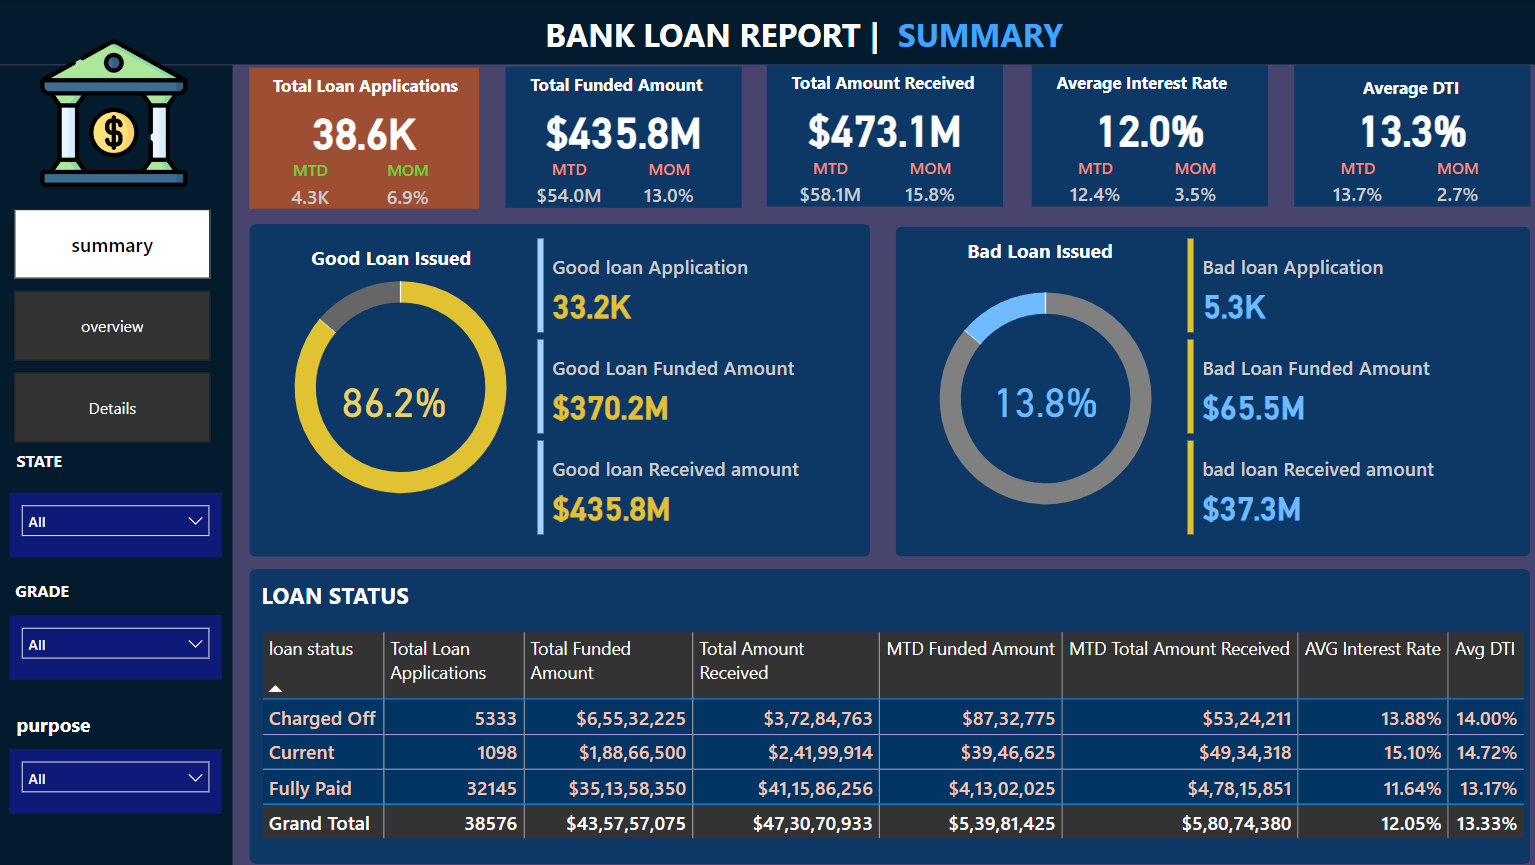

The dashboard page shown, as its layout file describes it:
{"tool":"powerbi","page":{"name":"summary","canvas":[1280,720],"ordinal":0},"visuals":[{"type":"shape","box":[639.5,54.7,196.4,117.4],"z":0,"group":"g3"},{"type":"shape","box":[859.4,54.7,196.4,117.4],"z":0,"group":"g4"},{"type":"shape","box":[1078.2,54.7,196.4,117.4],"z":0,"group":"g5"},{"type":"shape","box":[422,55.9,196.4,117.4],"z":0,"group":"g2"},{"type":"shape","box":[209.3,57,191.1,117.2],"z":0,"group":"g1"},{"type":"shape","box":[209.3,187.2,516.3,276.7],"z":0},{"type":"textbox","box":[230.9,198.9,196.5,36],"z":0,"group":"g6"},{"type":"card","fields":{"Values":["financial_loan (1).Total Amount Received"]},"box":[639.5,83.8,196.4,46.5],"z":1000,"group":"g3"},{"type":"card","fields":{"Values":["financial_loan (1).AVG Interest Rate"]},"box":[859.4,83.8,196.4,46.5],"z":1000,"group":"g4"},{"type":"card","fields":{"Values":["financial_loan (1).Avg DTI"]},"box":[1078.2,83.8,196.4,46.5],"z":1000,"group":"g5"},{"type":"card","fields":{"Values":["financial_loan (1).Total Funded Amount"]},"box":[422,85,196.4,46.5],"z":1000,"group":"g2"},{"type":"card","fields":{"Values":["financial_loan (1).Total Loan Applications"]},"box":[209.3,86,191.1,46.4],"z":1000,"group":"g1"},{"type":"donutChart","fields":{"Category":["financial_loan (1).Good vs Bad Loan"],"Y":["financial_loan (1).Total Loan Applications","financial_loan (1).Good Loan %"]},"box":[209.7,208.5,250,230.2],"z":1000,"group":"g6"},{"type":"textbox","box":[9.3,351.2,196.5,36],"z":1000},{"type":"shape","box":[0,0,1280.2,54.7],"z":2000},{"type":"textbox","box":[654.7,54.7,196.4,36],"z":2000,"group":"g3"},{"type":"textbox","box":[874.6,54.7,196.4,36],"z":2000,"group":"g4"},{"type":"textbox","box":[437.2,55.9,196.4,36],"z":2000,"group":"g2"},{"type":"textbox","box":[224.1,57,191.1,36],"z":2000,"group":"g1"},{"type":"textbox","box":[1130.1,58.6,129.6,28.5],"z":2000,"group":"g5"},{"type":"cardVisual","fields":{"Data":["financial_loan (1).Good loan Application","financial_loan (1).Good Loan Funded Amount","financial_loan (1).Good loan Received amount"]},"box":[443.4,194.5,293,258.1],"z":2000,"group":"g6"},{"type":"card","title":"MTD","fields":{"Values":["financial_loan (1).MTD Total Amount Received"]},"box":[654.7,130.3,74.8,41.9],"z":3000,"group":"g3"},{"type":"card","title":"MTD","fields":{"Values":["financial_loan (1).MTD AVG Interest Rate"]},"box":[874.6,130.3,74.8,41.9],"z":3000,"group":"g4"},{"type":"card","title":"MTD","fields":{"Values":["financial_loan (1).MTD AVG DTI"]},"box":[1093.4,130.3,74.8,41.9],"z":3000,"group":"g5"},{"type":"card","title":"MTD","fields":{"Values":["financial_loan (1).MTD Funded Amount"]},"box":[437.2,131.5,74.8,41.9],"z":3000,"group":"g2"},{"type":"card","title":"MTD","fields":{"Values":["financial_loan (1).MTD Loan Applications"]},"box":[224.1,132.4,72.8,41.8],"z":3000,"group":"g1"},{"type":"shape","box":[209.3,474.4,1065.1,245.3],"z":3000},{"type":"shape","box":[0,54.9,195,665.5],"z":4000},{"type":"card","title":"MOM","fields":{"Values":["financial_loan (1).MOM Total Amount Received"]},"box":[737.7,130.3,74.8,41.9],"z":4000,"group":"g3"},{"type":"card","title":"MOM","fields":{"Values":["financial_loan (1).MOM AVG Interest Rate"]},"box":[957.6,130.3,74.8,41.9],"z":4000,"group":"g4"},{"type":"card","title":"MOM","fields":{"Values":["financial_loan (1).MOM Avg DTI"]},"box":[1176.4,130.3,74.8,41.9],"z":4000,"group":"g5"},{"type":"card","title":"MOM","fields":{"Values":["financial_loan (1).MOM Total Funded Amount"]},"box":[520.2,131.5,74.8,41.9],"z":4000,"group":"g2"},{"type":"card","title":"MOM","fields":{"Values":["financial_loan (1).MOM Loan Application"]},"box":[304.8,132.4,72.8,41.8],"z":4000,"group":"g1"},{"type":"card","fields":{"Values":["financial_loan (1).Good Loan %"]},"box":[270.9,309.3,116.3,46.5],"z":5000},{"type":"textbox","box":[10.5,369.8,55.8,36],"z":6000},{"type":"textbox","box":[214,477.9,196.5,45.3],"z":7000},{"type":"textbox","box":[450.5,5.9,493.3,45.2],"z":8000},{"type":"group","id":"g1","title":"Group 1","box":[209.3,57,205.8,117.4],"z":9000},{"type":"group","id":"g2","title":"Group 1","box":[422,55.9,211.6,117.7],"z":10000},{"type":"group","id":"g3","title":"Group 1","box":[639.5,54.7,211.6,117.7],"z":11000},{"type":"group","id":"g4","title":"Group 1","box":[859.4,54.7,211.6,117.7],"z":12000},{"type":"group","id":"g5","title":"Group 1","box":[1078.2,54.7,196.1,117.7],"z":13000},{"type":"shape","box":[746.5,189.5,527.9,274.4],"z":14000},{"type":"donutChart","fields":{"Category":["financial_loan (1).Good vs Bad Loan"],"Y":["financial_loan (1).Total Loan Applications","financial_loan (1).Good Loan %"]},"box":[746.5,217.4,250,230.2],"z":15000},{"type":"group","id":"g6","title":"Group 3","box":[209.7,194.5,526.7,258.1],"z":15001,"group":"g7"},{"type":"textbox","box":[769.8,193,196.5,36],"z":16000},{"type":"card","fields":{"Values":["financial_loan (1).Bad Loan %"]},"box":[812.8,309.3,116.3,46.5],"z":17000},{"type":"cardVisual","fields":{"Data":["financial_loan (1).Bad loan Application","financial_loan (1).Bad Loan Funded Amount","financial_loan (1).bad loan Received amount"]},"box":[983.7,194.2,290.7,258.1],"z":18000},{"type":"group","id":"g7","title":"Group 2","box":[209.7,194.5,526.7,258.1],"z":19000},{"type":"tableEx","fields":{"Values":["financial_loan (1).loan_status","financial_loan (1).Total Loan Applications","financial_loan (1).Total Funded Amount","financial_loan (1).Total Amount Received","financial_loan (1).MTD Funded Amount","financial_loan (1).MTD Total Amount Received","financial_loan (1).AVG Interest Rate","financial_loan (1).Avg DTI"]},"box":[214,522.1,1060.5,183.7],"z":20000},{"type":"slicer","fields":{"Values":["financial_loan (1).address_state"]},"box":[9.3,410.5,176.7,53.5],"z":21000},{"type":"slicer","fields":{"Values":["financial_loan (1).grade"]},"box":[9.3,512.8,176.7,53.5],"z":22000},{"type":"textbox","box":[9.3,477.9,77.9,36],"z":23000},{"type":"slicer","fields":{"Values":["financial_loan (1).purpose"]},"box":[9.3,623.3,176.7,53.5],"z":24000},{"type":"textbox","box":[10.5,587.2,87.2,36],"z":25000},{"type":"image","box":[14,29.1,166.3,132.6],"z":26000},{"type":"pageNavigator","box":[14,174.4,164,195.3],"z":27000}]}

Visuals, with their boxes in screenshot pixels (x1, y1, x2, y2), scaled from the page's 1280x720 canvas onto the 1535x865 screenshot:
shape: x1=767 y1=66 x2=1002 y2=207
shape: x1=1031 y1=66 x2=1266 y2=207
shape: x1=1293 y1=66 x2=1529 y2=207
shape: x1=506 y1=67 x2=742 y2=208
shape: x1=251 y1=68 x2=480 y2=209
shape: x1=251 y1=225 x2=870 y2=557
textbox: x1=277 y1=239 x2=513 y2=282
card - financial_loan (1).Total Amount Received: x1=767 y1=101 x2=1002 y2=157
card - financial_loan (1).AVG Interest Rate: x1=1031 y1=101 x2=1266 y2=157
card - financial_loan (1).Avg DTI: x1=1293 y1=101 x2=1529 y2=157
card - financial_loan (1).Total Funded Amount: x1=506 y1=102 x2=742 y2=158
card - financial_loan (1).Total Loan Applications: x1=251 y1=103 x2=480 y2=159
donutChart - financial_loan (1).Good vs Bad Loan x financial_loan (1).Total Loan Applications: x1=251 y1=250 x2=551 y2=527
textbox: x1=11 y1=422 x2=247 y2=465
shape: x1=0 y1=0 x2=1534 y2=66
textbox: x1=785 y1=66 x2=1021 y2=109
textbox: x1=1049 y1=66 x2=1284 y2=109
textbox: x1=524 y1=67 x2=760 y2=110
textbox: x1=269 y1=68 x2=498 y2=112
textbox: x1=1355 y1=70 x2=1511 y2=105
cardVisual - financial_loan (1).Good loan Application x financial_loan (1).Good Loan Funded Amount: x1=532 y1=234 x2=883 y2=544
"MTD" card: x1=785 y1=157 x2=875 y2=207
"MTD" card: x1=1049 y1=157 x2=1139 y2=207
"MTD" card: x1=1311 y1=157 x2=1401 y2=207
"MTD" card: x1=524 y1=158 x2=614 y2=208
"MTD" card: x1=269 y1=159 x2=356 y2=209
shape: x1=251 y1=570 x2=1528 y2=864
shape: x1=0 y1=66 x2=234 y2=864
"MOM" card: x1=885 y1=157 x2=974 y2=207
"MOM" card: x1=1148 y1=157 x2=1238 y2=207
"MOM" card: x1=1411 y1=157 x2=1500 y2=207
"MOM" card: x1=624 y1=158 x2=714 y2=208
"MOM" card: x1=366 y1=159 x2=453 y2=209
card - financial_loan (1).Good Loan %: x1=325 y1=372 x2=464 y2=427
textbox: x1=13 y1=444 x2=80 y2=488
textbox: x1=257 y1=574 x2=492 y2=629
textbox: x1=540 y1=7 x2=1132 y2=61
"Group 1" group: x1=251 y1=68 x2=498 y2=210
"Group 1" group: x1=506 y1=67 x2=760 y2=209
"Group 1" group: x1=767 y1=66 x2=1021 y2=207
"Group 1" group: x1=1031 y1=66 x2=1284 y2=207
"Group 1" group: x1=1293 y1=66 x2=1528 y2=207
shape: x1=895 y1=228 x2=1528 y2=557
donutChart - financial_loan (1).Good vs Bad Loan x financial_loan (1).Total Loan Applications: x1=895 y1=261 x2=1195 y2=538
"Group 3" group: x1=251 y1=234 x2=883 y2=544
textbox: x1=923 y1=232 x2=1159 y2=275
card - financial_loan (1).Bad Loan %: x1=975 y1=372 x2=1114 y2=427
cardVisual - financial_loan (1).Bad loan Application x financial_loan (1).Bad Loan Funded Amount: x1=1180 y1=233 x2=1528 y2=543
"Group 2" group: x1=251 y1=234 x2=883 y2=544
tableEx - financial_loan (1).loan_status x financial_loan (1).Total Loan Applications: x1=257 y1=627 x2=1528 y2=848
slicer - financial_loan (1).address_state: x1=11 y1=493 x2=223 y2=557
slicer - financial_loan (1).grade: x1=11 y1=616 x2=223 y2=680
textbox: x1=11 y1=574 x2=105 y2=617
slicer - financial_loan (1).purpose: x1=11 y1=749 x2=223 y2=813
textbox: x1=13 y1=705 x2=117 y2=749
image: x1=17 y1=35 x2=216 y2=194
pageNavigator: x1=17 y1=210 x2=213 y2=444
